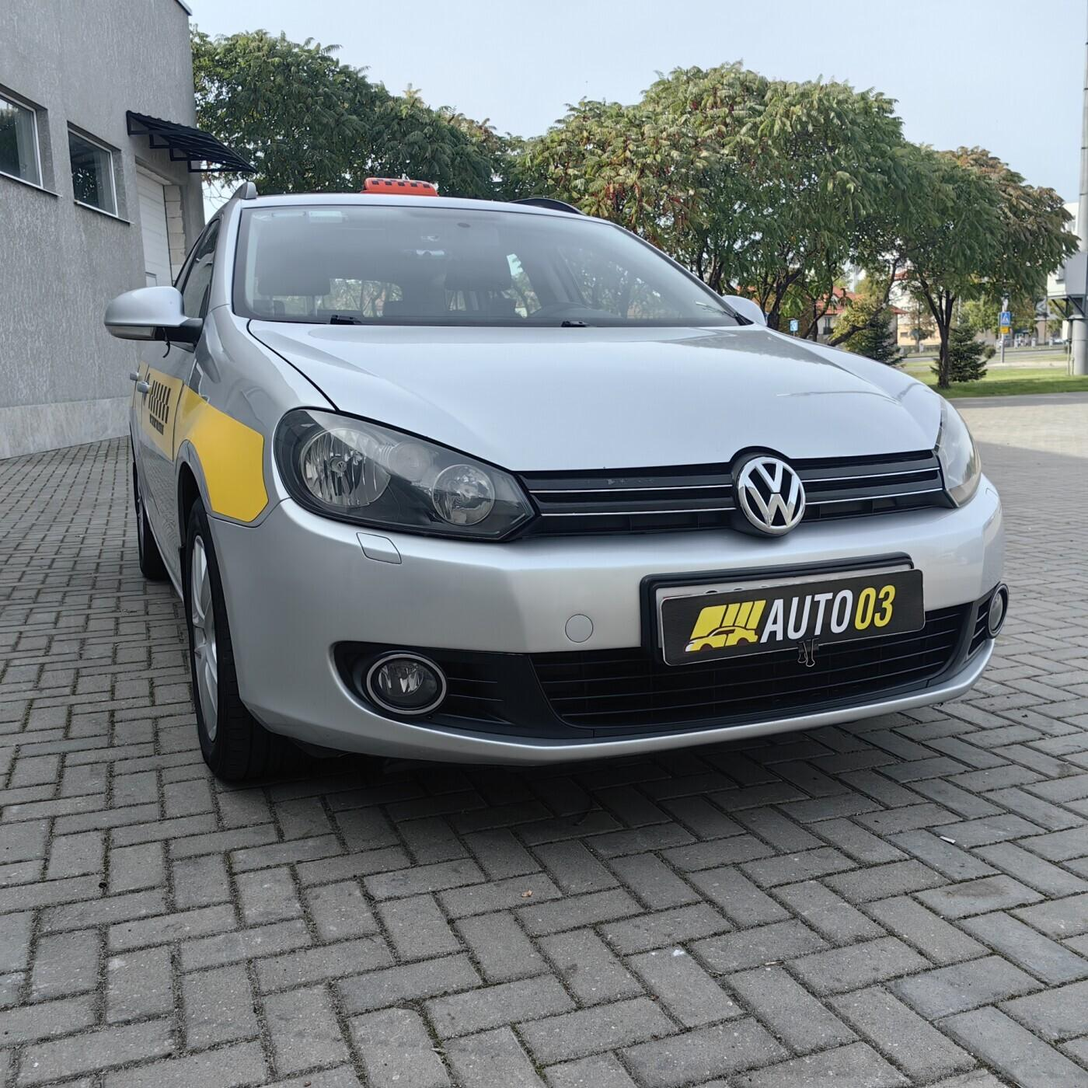Golf_2008-2013: (111, 183, 1009, 814)
